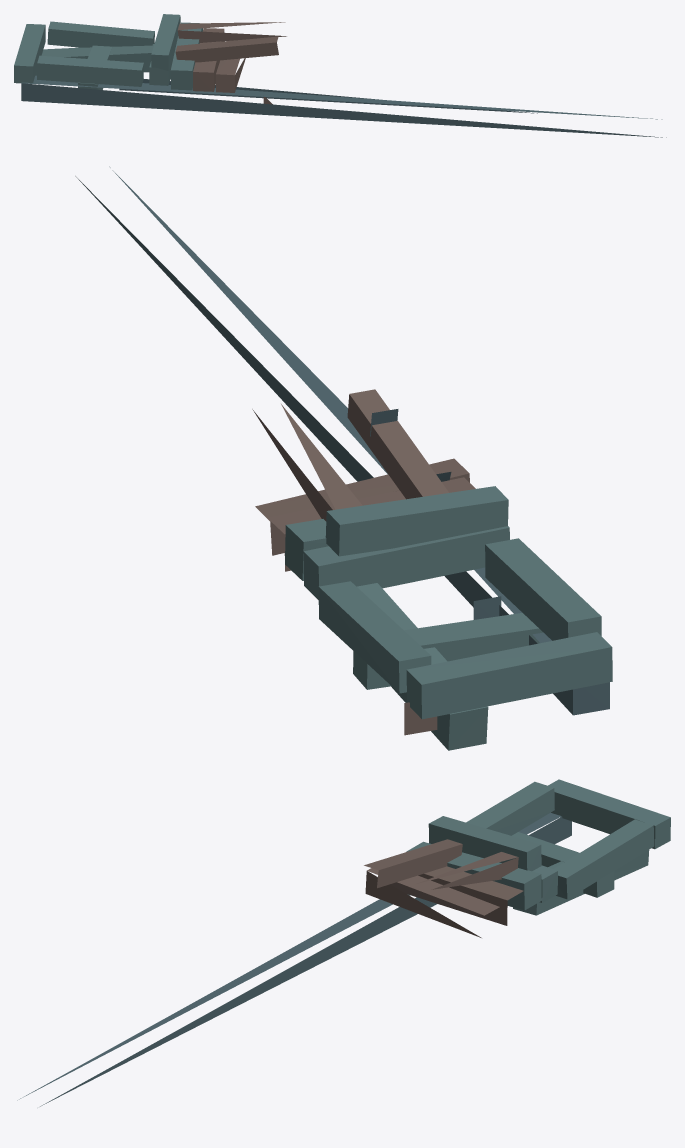
File: terminal-4---136_-18.glb
3 renders of one model, top to bottom at view 1: azimuth 30°, elevation 25°; view 2: azimuth 150°, elevation 25°; view 3: azimuth 270°, elevation 25°, orthographic. The views are drawn at different scales.
Visible parts, largest first — view 1: measured-industrial; view 2: measured-industrial; view 3: measured-industrial.
Boxes of the visible parts, box(x1,y1,x2,y2) form: measured-industrial: box(14, 14, 666, 137); measured-industrial: box(75, 166, 612, 750); measured-industrial: box(17, 779, 670, 1106).
Size of the model in its own units: 47.12 by 6.96 by 42.73.
